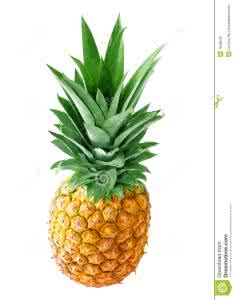pineapple: (48, 24, 157, 289)
